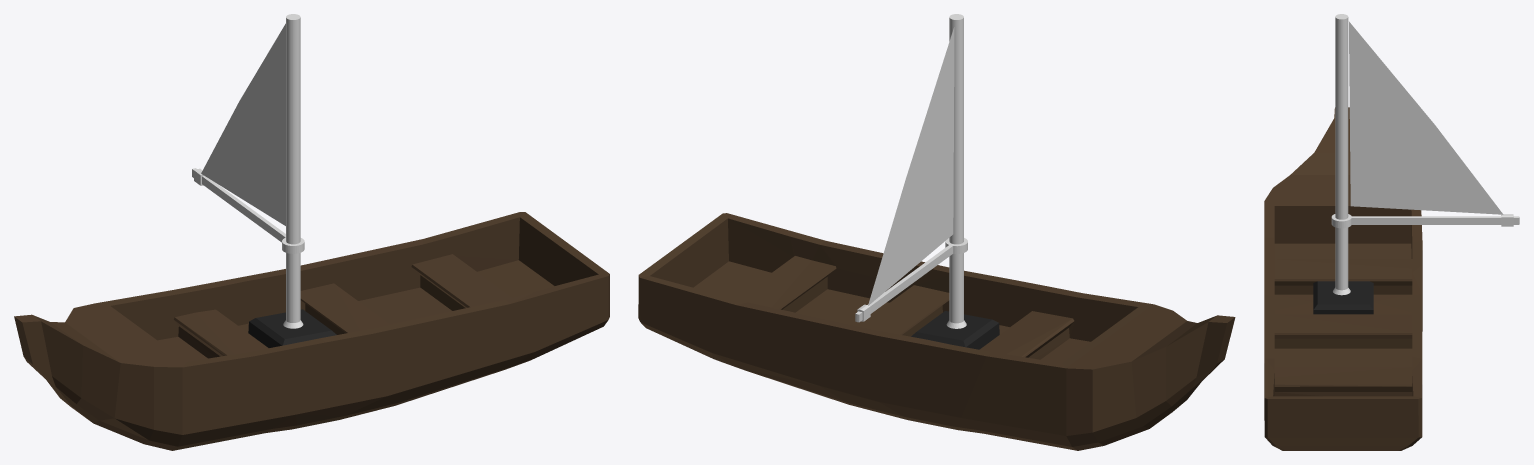
The model's file is wip_boat_optimized_with_sail.fbx.
3 views of the same model, side by side, from view 1: azimuth 30°, elevation 25°; view 2: azimuth 150°, elevation 25°; view 3: azimuth 270°, elevation 25° (orthographic). The views are drawn at different scales.
Parts seen in each view (by area): view 1: Boat, Plane, Mast; view 2: Boat, Plane, Mast; view 3: Boat, Plane, Mast.
Part boxes in pixels (<box>): Boat: <box>14,212,609,450</box>; Plane: <box>201,23,285,225</box>; Mast: <box>192,14,304,328</box>; Boat: <box>638,213,1235,450</box>; Plane: <box>868,27,954,305</box>; Mast: <box>855,14,967,328</box>; Boat: <box>1264,107,1422,450</box>; Plane: <box>1349,21,1503,214</box>; Mast: <box>1331,14,1519,295</box>.
Size of the model in its own units: 1741 by 1156 by 783.
